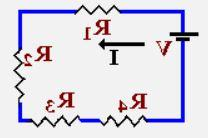Battery: (165, 26, 198, 50)
